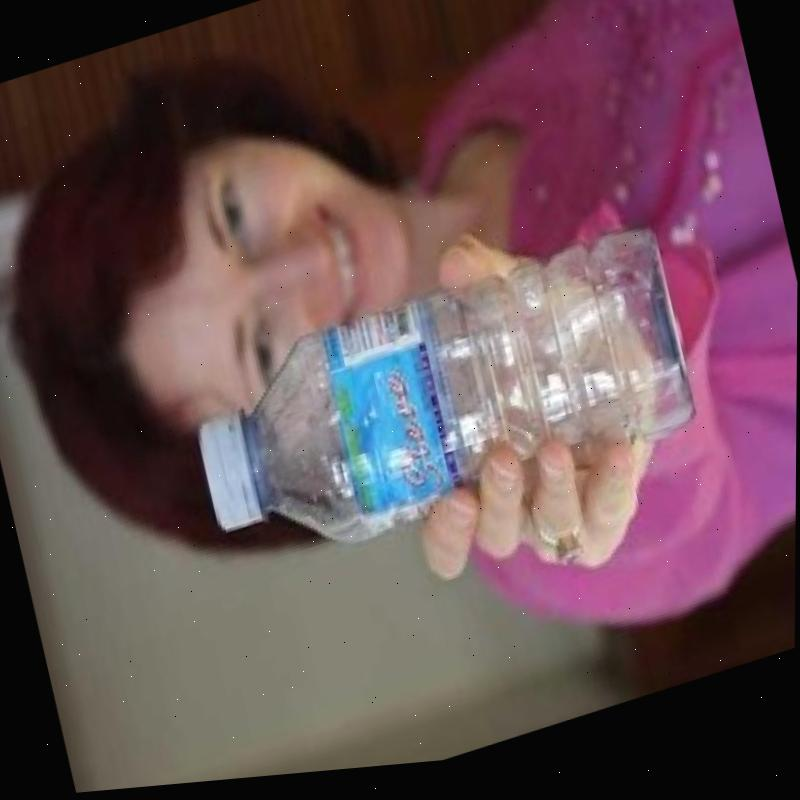botella: (177, 227, 702, 592)
